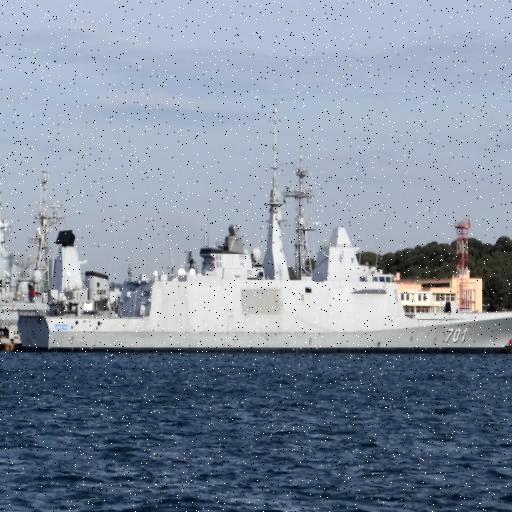Fragata: (9, 110, 512, 358)
